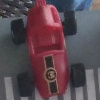rojo: (12, 1, 86, 97)
